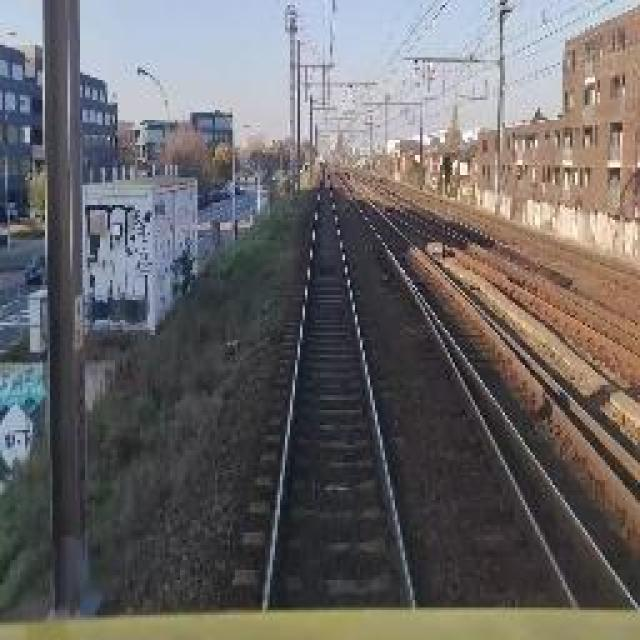rail: (221, 162, 445, 612)
